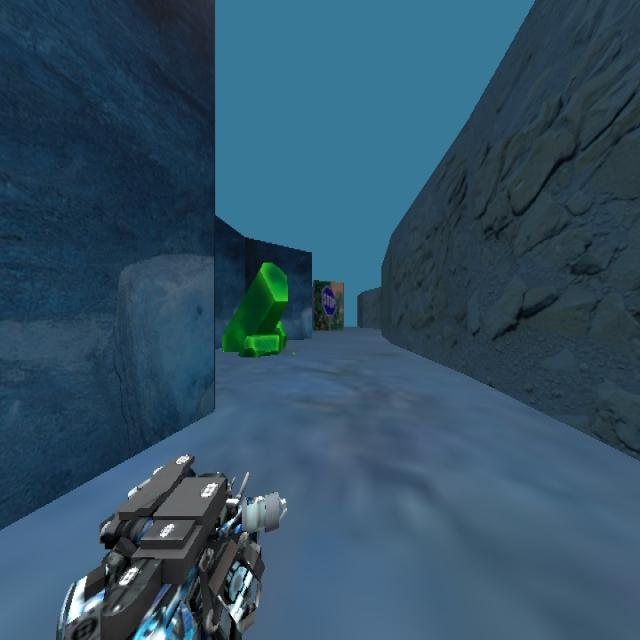Diamon: (220, 260, 289, 357)
Stop_Sign: (320, 284, 336, 316)
